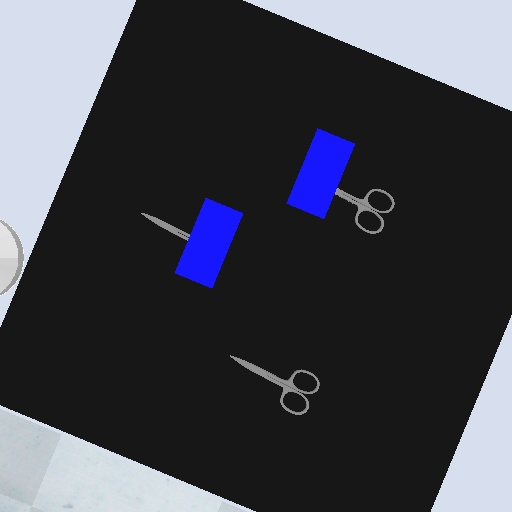tijera: (226, 347, 324, 418), (332, 178, 399, 236), (136, 206, 191, 243)
